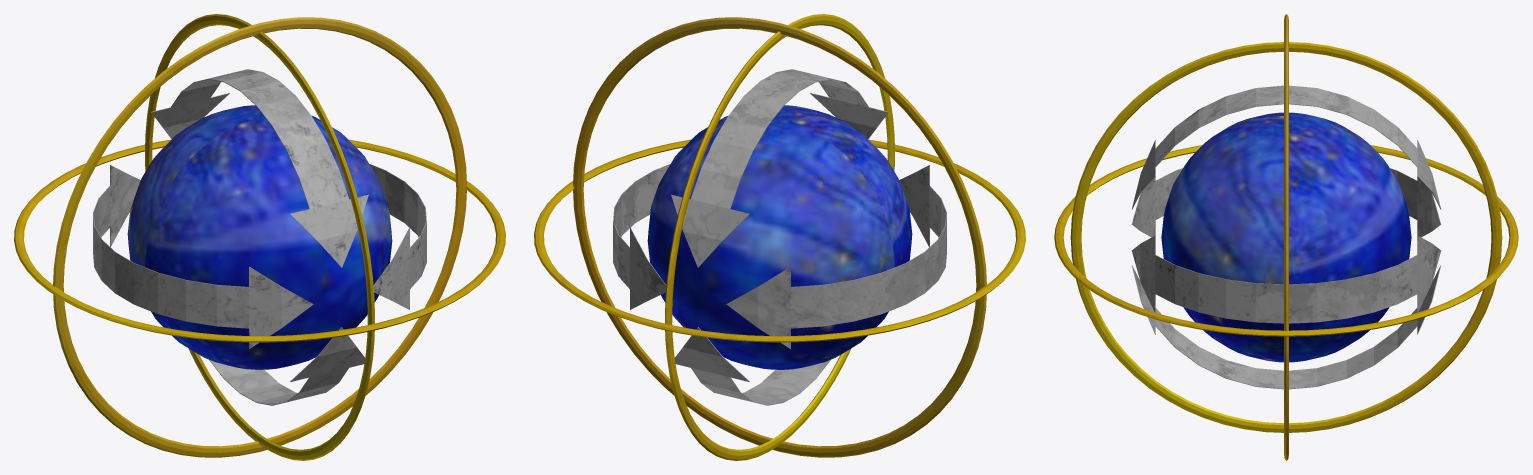
File: [grft] gravity_shift.fbx
3 views of the same model, side by side, from view 1: azimuth 30°, elevation 25°; view 2: azimuth 150°, elevation 25°; view 3: azimuth 270°, elevation 25° (orthographic). The views are drawn at different scales.
Parts seen in each view (by area): view 1: Sphere, Circle.004, Circle, Circle.001, Circle.002; view 2: Sphere, Circle.004, Circle, Circle.001, Circle.002; view 3: Sphere, Circle.004, Circle.001, Circle.002, Circle.
Boxes of the visible parts, x1=… form: Sphere: x1=127, y1=105, x2=392, y2=369; Circle.004: x1=93, y1=69, x2=426, y2=405; Circle: x1=53, y1=17, x2=466, y2=457; Circle.001: x1=145, y1=14, x2=374, y2=460; Circle.002: x1=14, y1=139, x2=505, y2=342; Sphere: x1=647, y1=105, x2=912, y2=369; Circle.004: x1=613, y1=69, x2=946, y2=405; Circle: x1=573, y1=17, x2=986, y2=457; Circle.001: x1=665, y1=14, x2=894, y2=460; Circle.002: x1=534, y1=139, x2=1025, y2=342; Sphere: x1=1161, y1=112, x2=1411, y2=362; Circle.004: x1=1131, y1=85, x2=1441, y2=389; Circle.001: x1=1070, y1=42, x2=1502, y2=432; Circle.002: x1=1054, y1=145, x2=1518, y2=336; Circle: x1=1284, y1=14, x2=1288, y2=460.
Size of the model in its own units: 292 by 281 by 292.
Materials: 3 (3 with a texture image).
